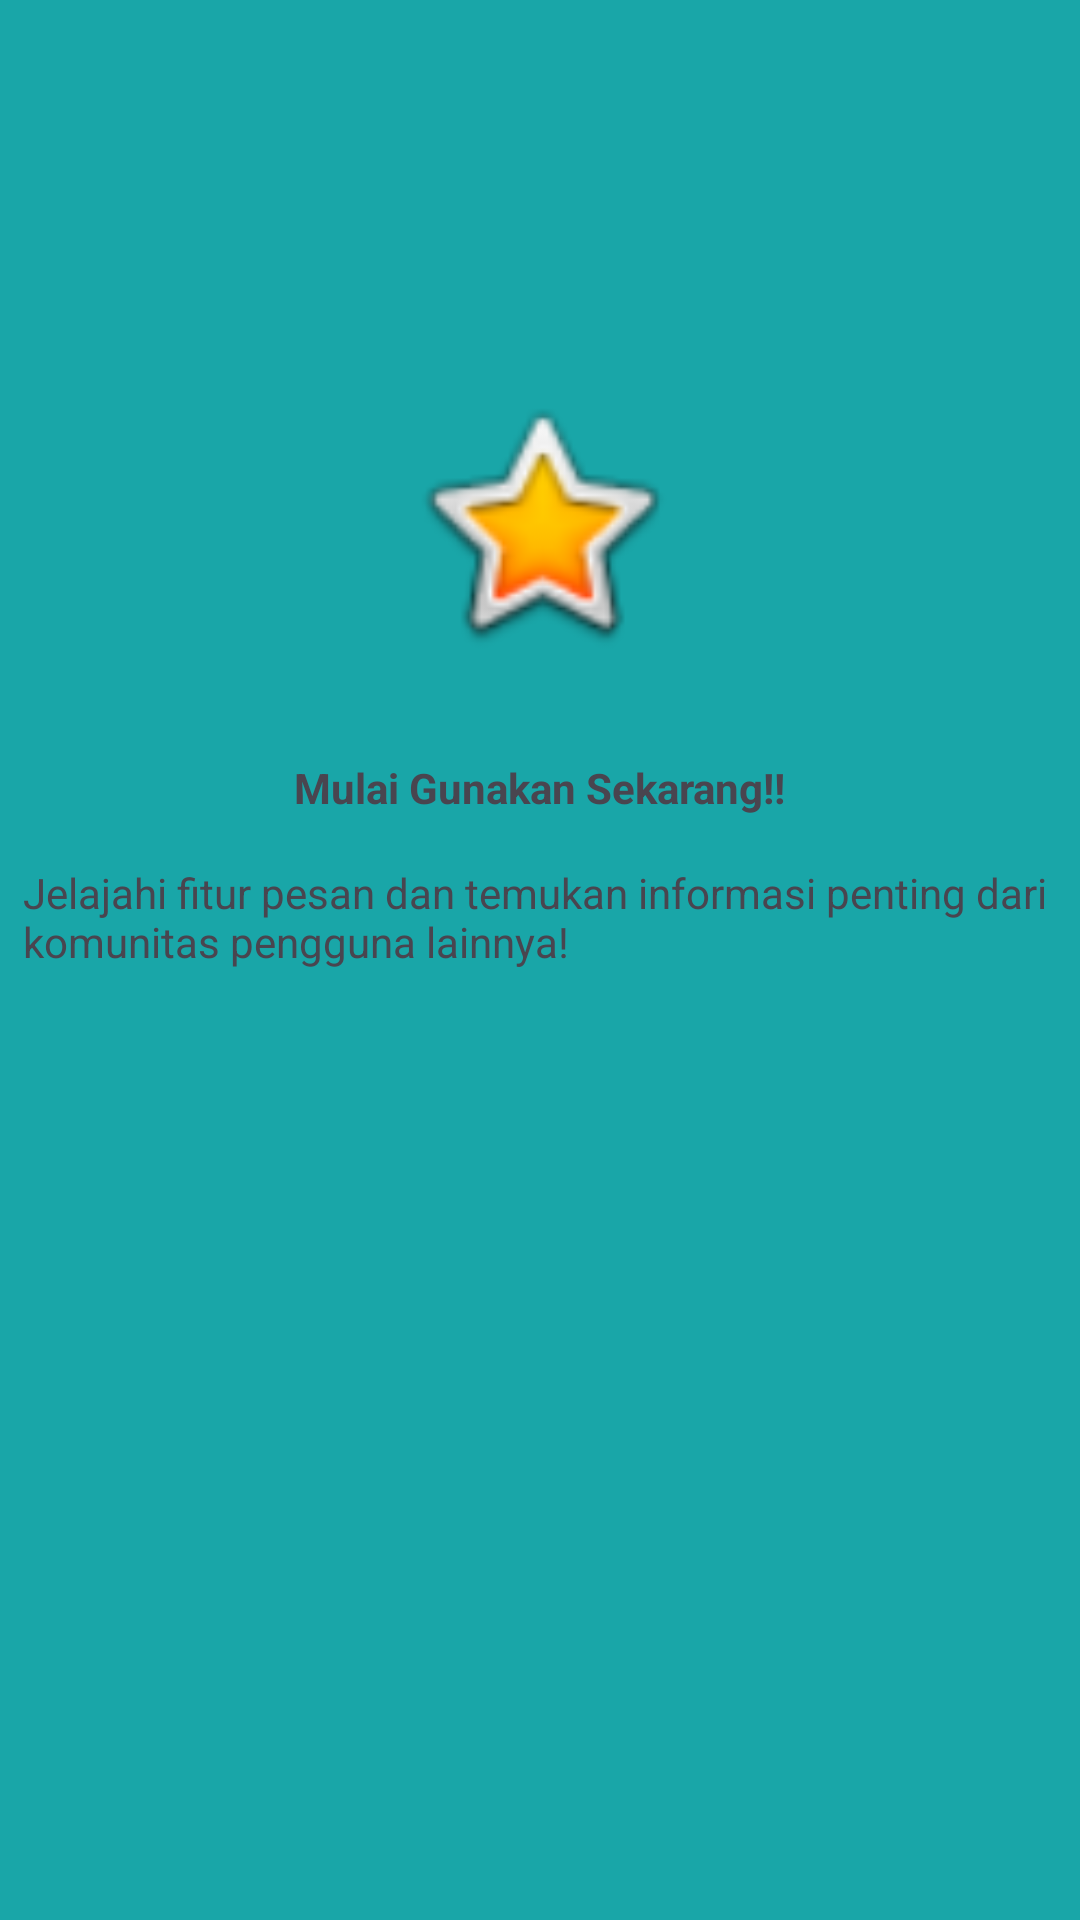

Icon click points for this 1080w x 1920h phone screenshot, format point (x, y):
star on: point (543, 526)
